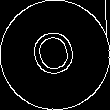O_S: (28, 25, 82, 85)
